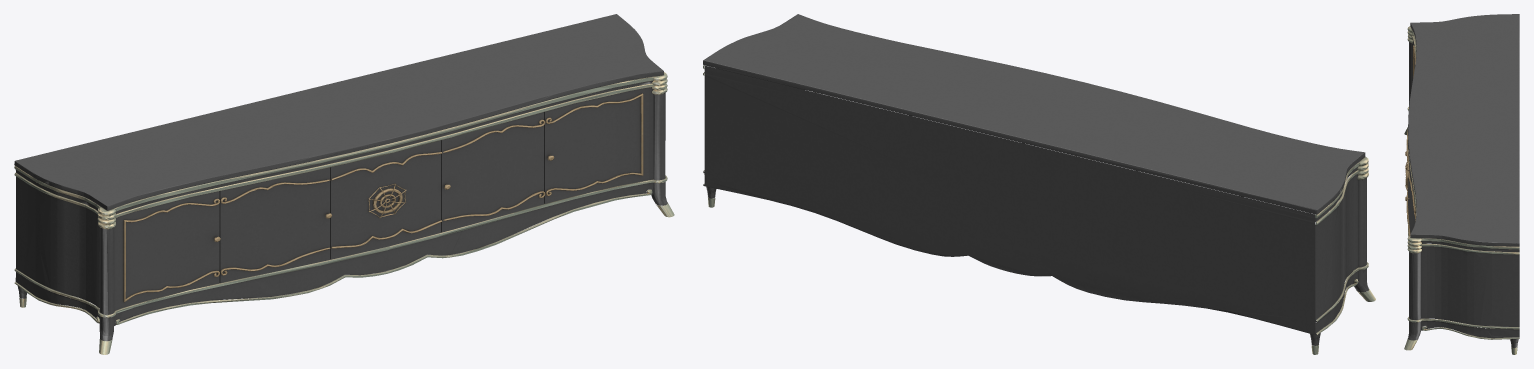
File: 55f0601e-a5eb-41be-a096-5b60aee05622.gltf
3 views of the same model, side by side, from view 1: azimuth 30°, elevation 25°; view 2: azimuth 150°, elevation 25°; view 3: azimuth 270°, elevation 25° (orthographic). The views are drawn at different scales.
Visible parts, largest first — view 1: Node; view 2: Node; view 3: Node.
Boxes of the visible parts, left/top/right/bottom form: Node: left=14, top=14, right=674, bottom=354; Node: left=703, top=14, right=1375, bottom=354; Node: left=1404, top=14, right=1519, bottom=354.
Bounding box in the file's own units: 1.91 × 0.4387 × 0.4074.
1 material, 1 textured.
